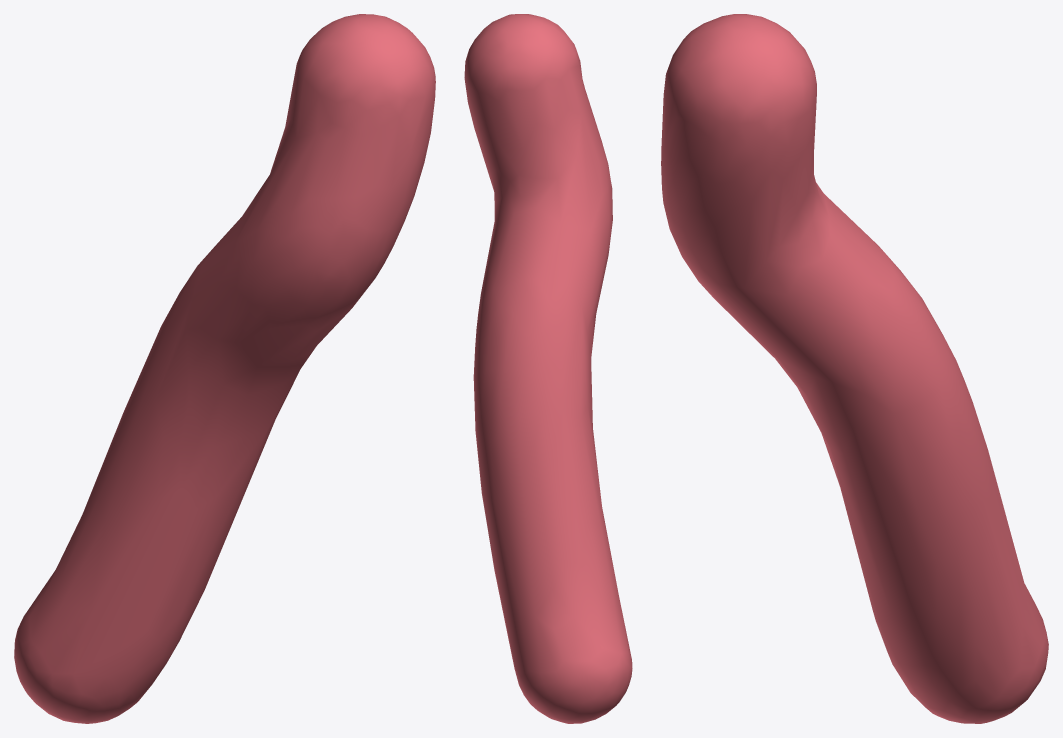
Rendered from fma50370_fj1660m.glb.
The picture shows the model from 3 angles, left to right: view 1: azimuth 30°, elevation 25°; view 2: azimuth 150°, elevation 25°; view 3: azimuth 270°, elevation 25°; orthographic projection. The views are drawn at different scales.
Visible parts, largest first — view 1: FMA50370_FJ1660M; view 2: FMA50370_FJ1660M; view 3: FMA50370_FJ1660M.
Part boxes in pixels (bbox=[...]): FMA50370_FJ1660M: bbox=[14, 14, 435, 723]; FMA50370_FJ1660M: bbox=[464, 14, 632, 723]; FMA50370_FJ1660M: bbox=[661, 14, 1048, 723].
Bounding box in the file's own units: 0.00591 × 0.0141 × 0.00629.
